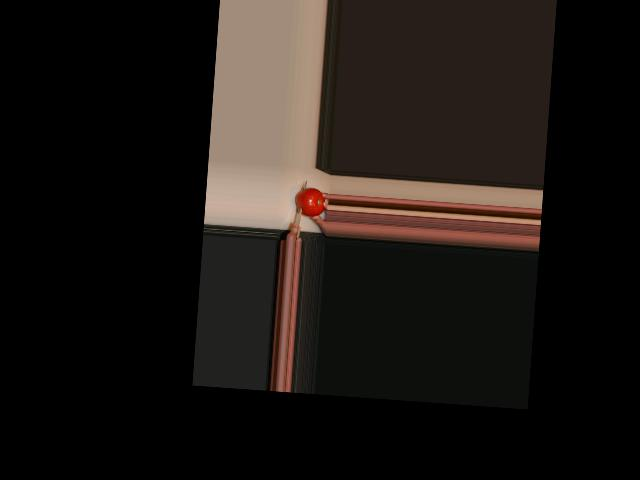tomato: (294, 186, 325, 217)
